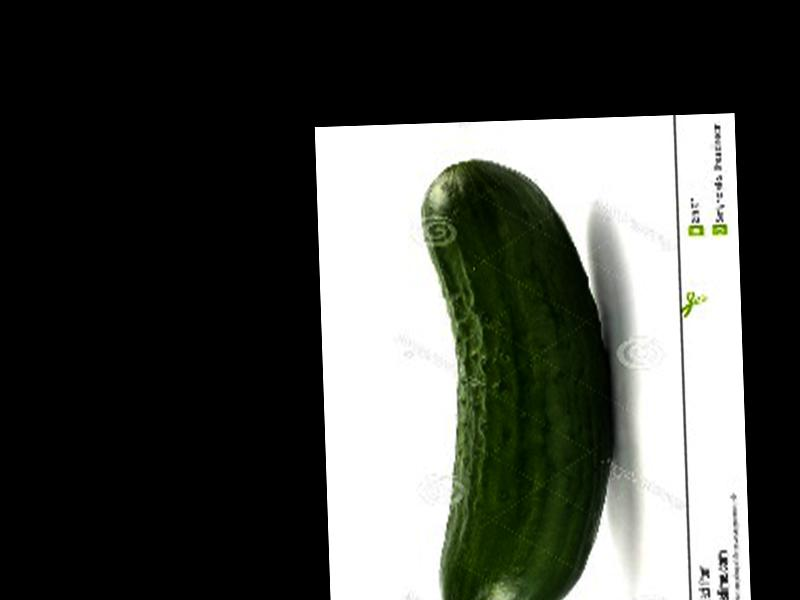Cucumber: (425, 156, 619, 600)
